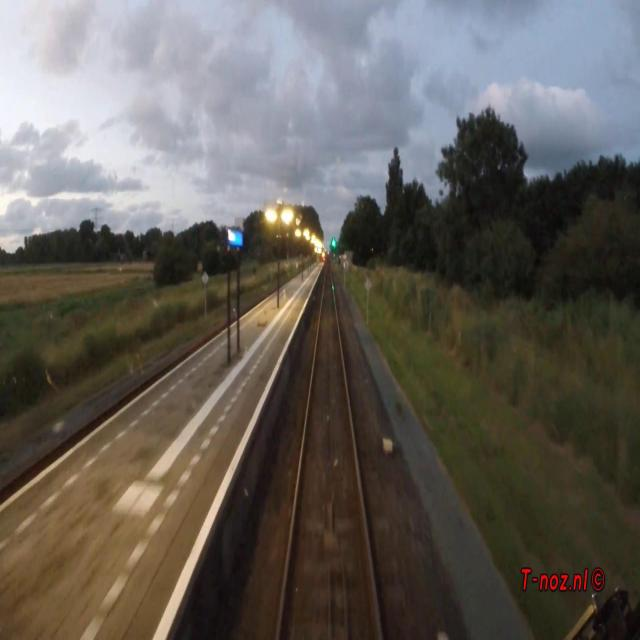rail-track: (280, 260, 378, 639)
